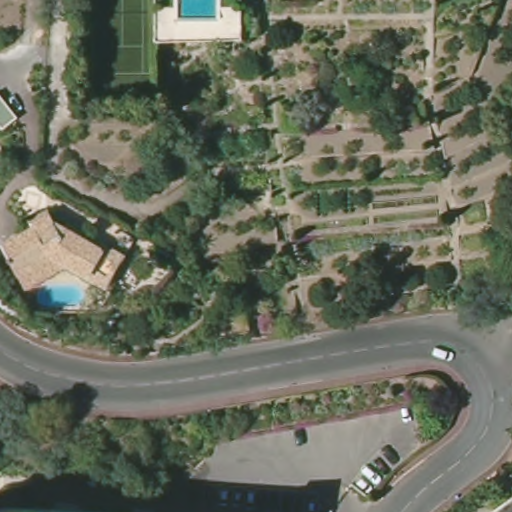pool: (33, 282, 85, 308), (171, 1, 229, 24)
